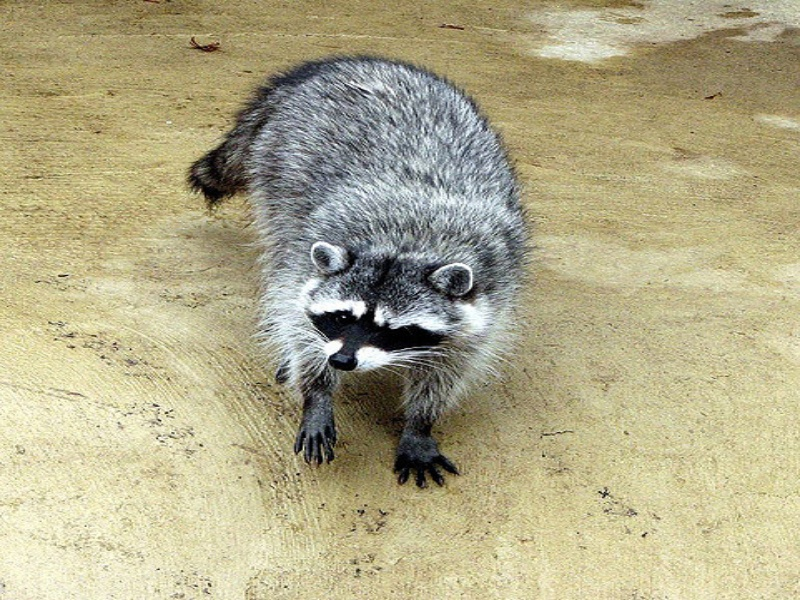raccoon: (182, 55, 533, 496)
